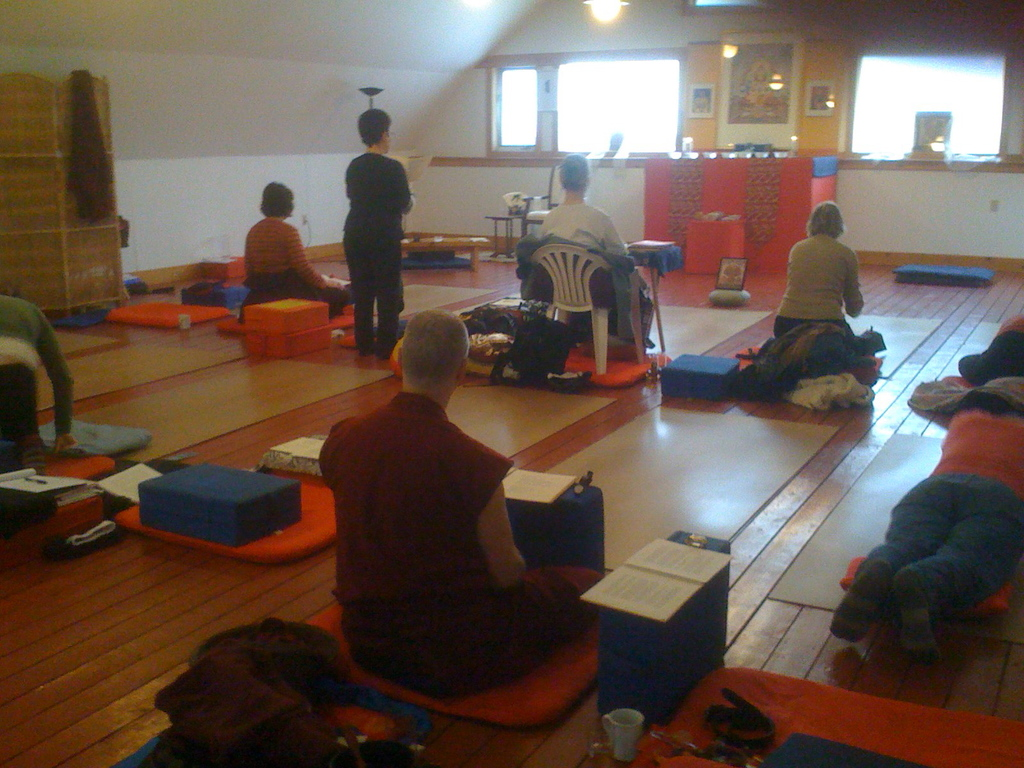Person: (826, 386, 1024, 668), (540, 152, 656, 349), (340, 106, 413, 357), (235, 180, 354, 317), (0, 289, 78, 480), (774, 197, 860, 346), (961, 310, 1024, 382)
